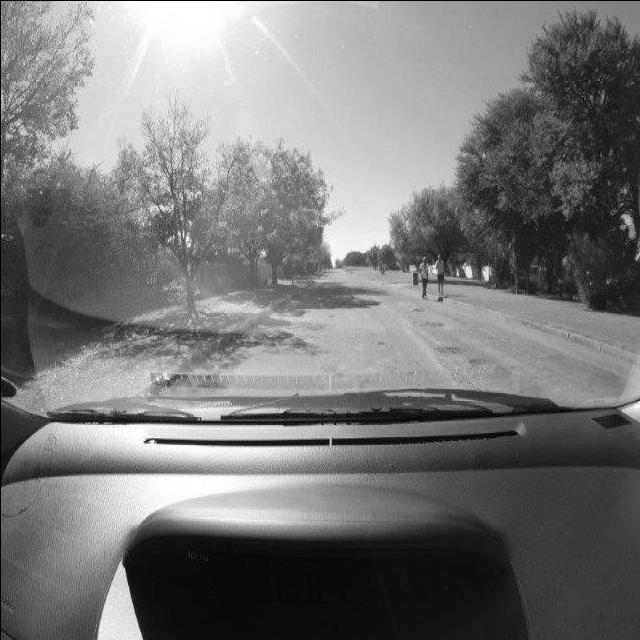lubang: (465, 352, 500, 370), (434, 340, 460, 354), (420, 318, 446, 329), (409, 304, 427, 316)
